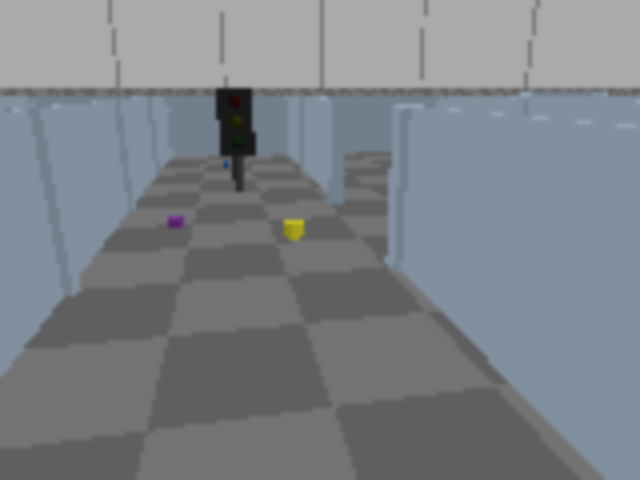puck: (284, 219, 304, 240)
traffic_light: (215, 83, 257, 196)
